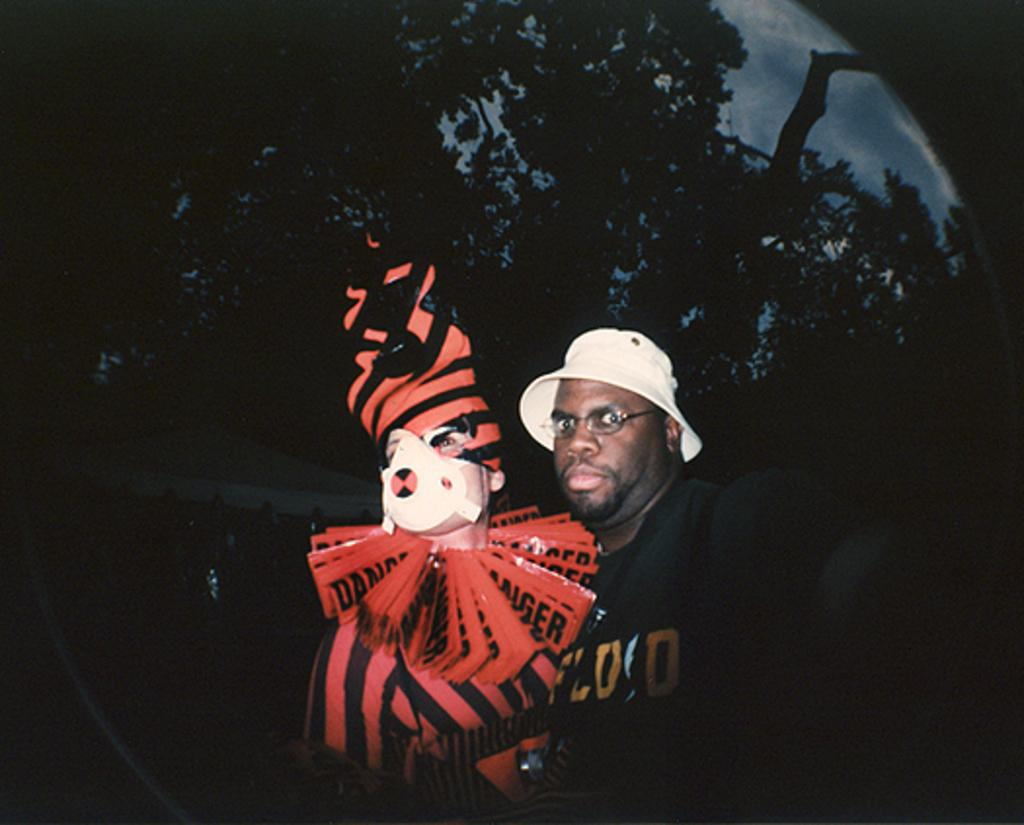Hat: (514, 331, 700, 462)
